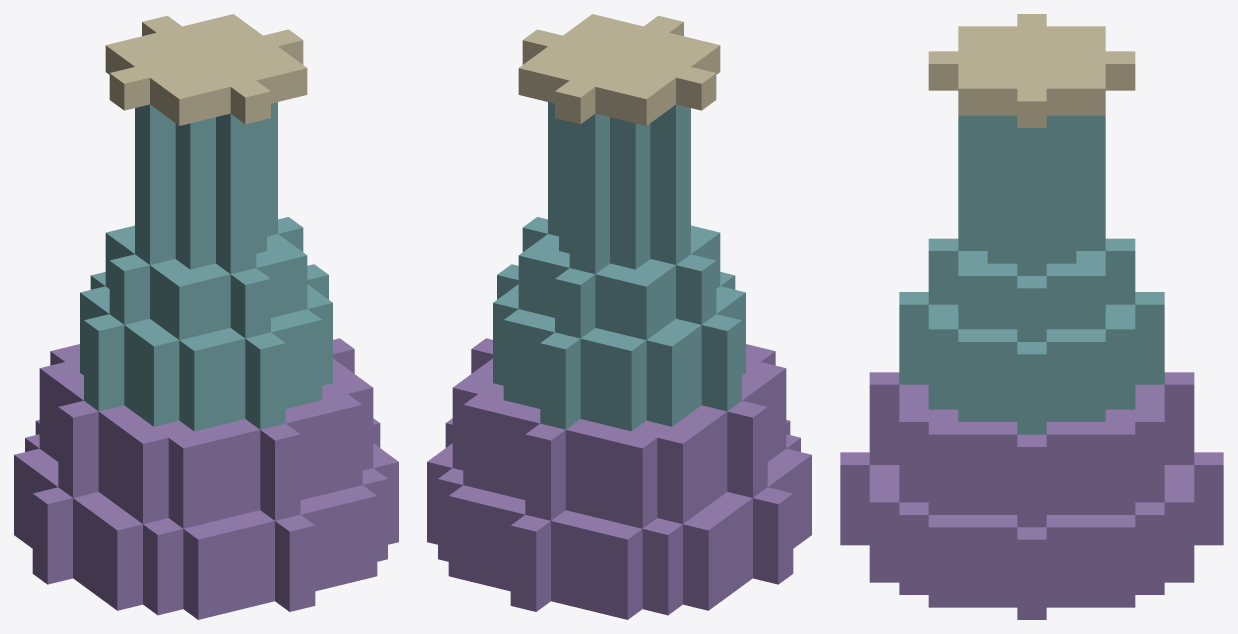
The model's file is games-15.glb.
3 renders of one model, left to right at view 1: azimuth 30°, elevation 25°; view 2: azimuth 150°, elevation 25°; view 3: azimuth 270°, elevation 25°, orthographic.
Visible parts, largest first — view 1: Health potion; view 2: Health potion; view 3: Health potion.
Boxes of the visible parts, <box> form: Health potion: <box>14,14,398,619</box>; Health potion: <box>427,14,811,619</box>; Health potion: <box>840,14,1223,619</box>.
Bounding box in the file's own units: 1.04 × 1.44 × 1.04.
